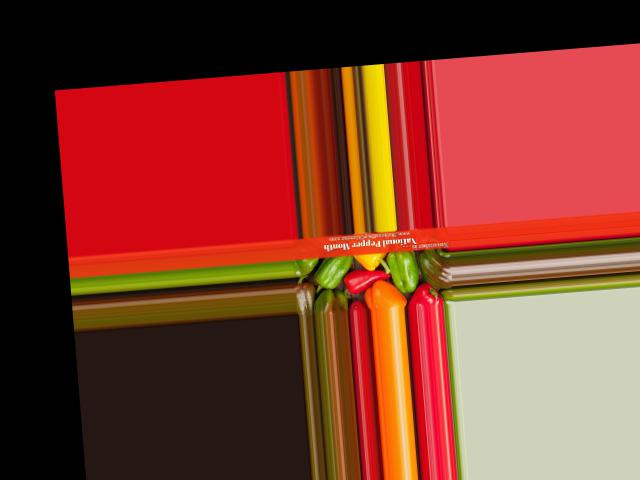bell_pepper: (418, 247, 452, 290)
